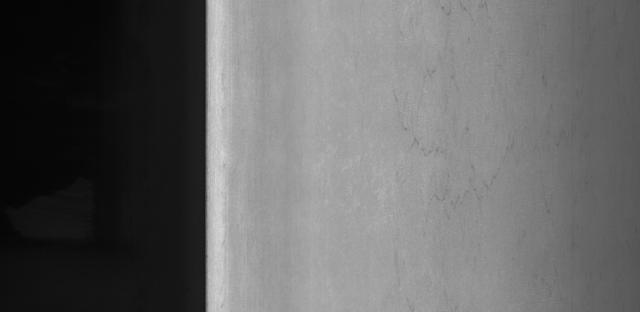silk_spot: (390, 14, 525, 256)
